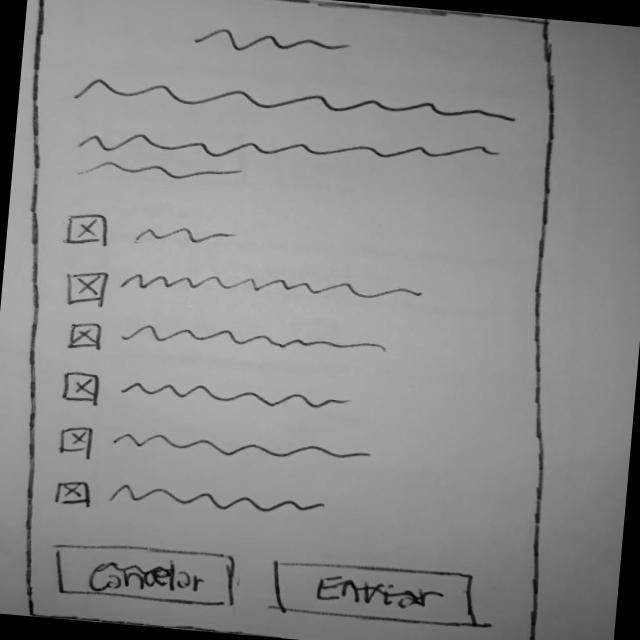button: (271, 556, 485, 632), (47, 536, 244, 613)
checkbox: (60, 254, 429, 341), (66, 313, 392, 383), (56, 421, 378, 487), (60, 369, 359, 431), (49, 476, 333, 535), (58, 210, 254, 263)
container: (1, 1, 601, 640)
text: (71, 69, 526, 139), (186, 18, 357, 67)
textbox: (67, 106, 511, 216)
